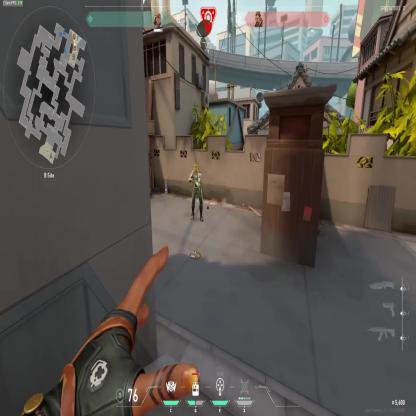enemy: (188, 164, 204, 222)
enemy_head: (194, 164, 197, 172)
